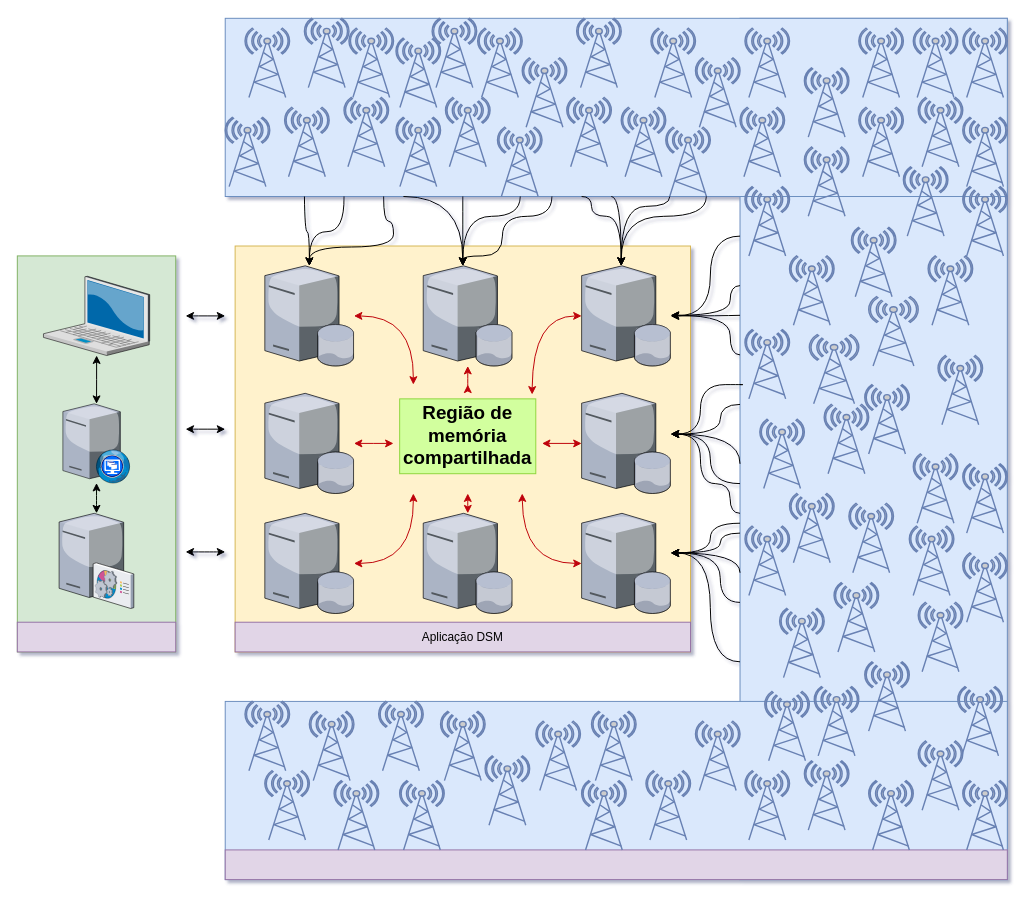
Some shapes in this 1032 by 903 pixel diagram are drawn without their labels. The centre of each missing label's shape, as x and y in pixels:
"Aplicações consumidoras de dados" belongs at (96,636).
"Usinas de informação" belongs at (615,864).
